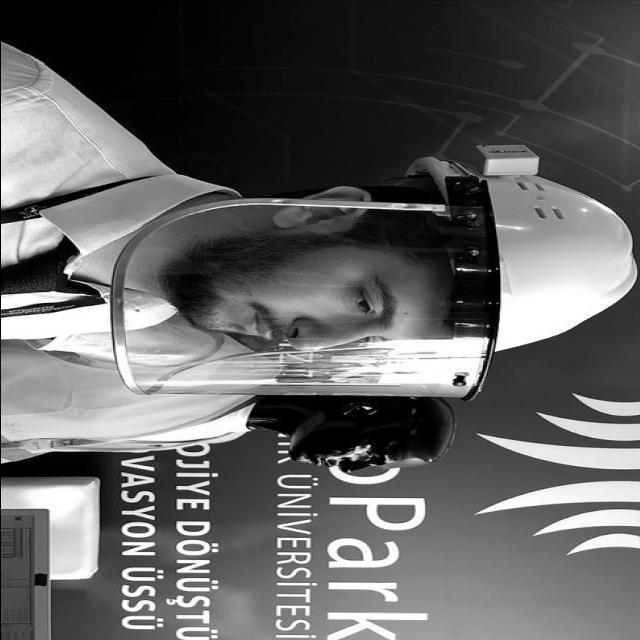safety_helmet: (365, 160, 633, 352)
